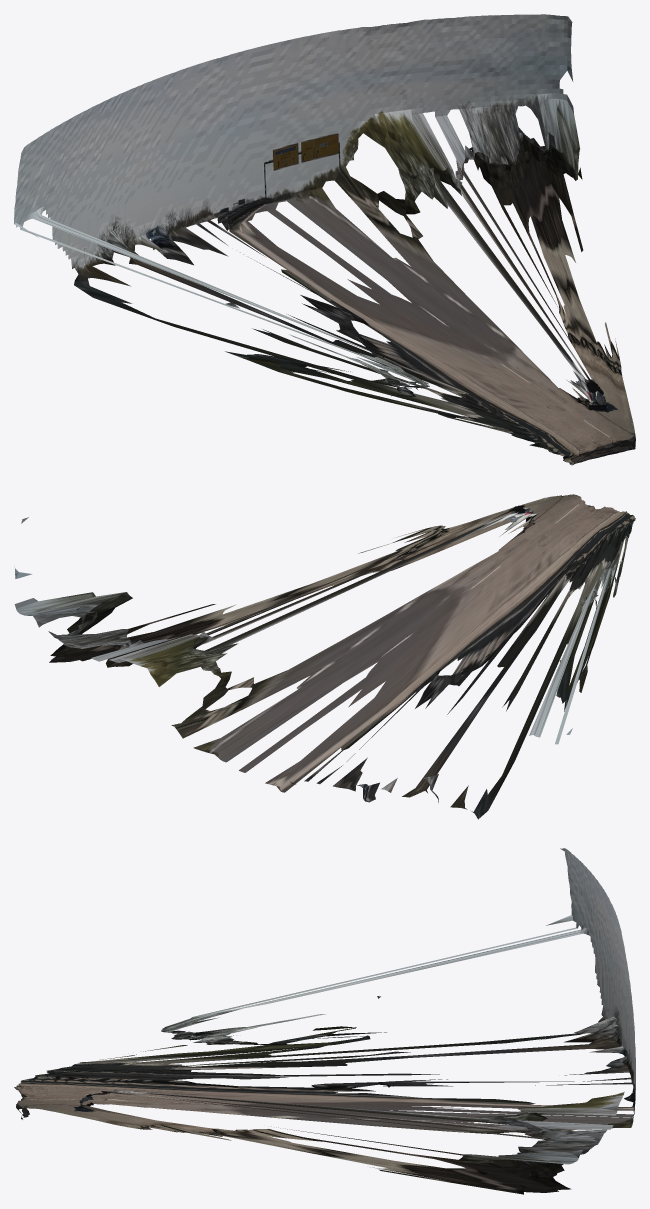
3 renders of one model, top to bottom at view 1: azimuth 30°, elevation 25°; view 2: azimuth 150°, elevation 25°; view 3: azimuth 270°, elevation 25°, orthographic. The views are drawn at different scales.
Parts seen in each view (by area): view 1: defaultobject; view 2: defaultobject; view 3: defaultobject.
Part boxes in pixels (box(x1,y1,x2,y2)): defaultobject: box(14, 14, 635, 465); defaultobject: box(14, 494, 635, 819); defaultobject: box(14, 848, 635, 1194).
Size of the model in its own units: 40.94 by 12.92 by 44.46.
1 material, 1 textured.
